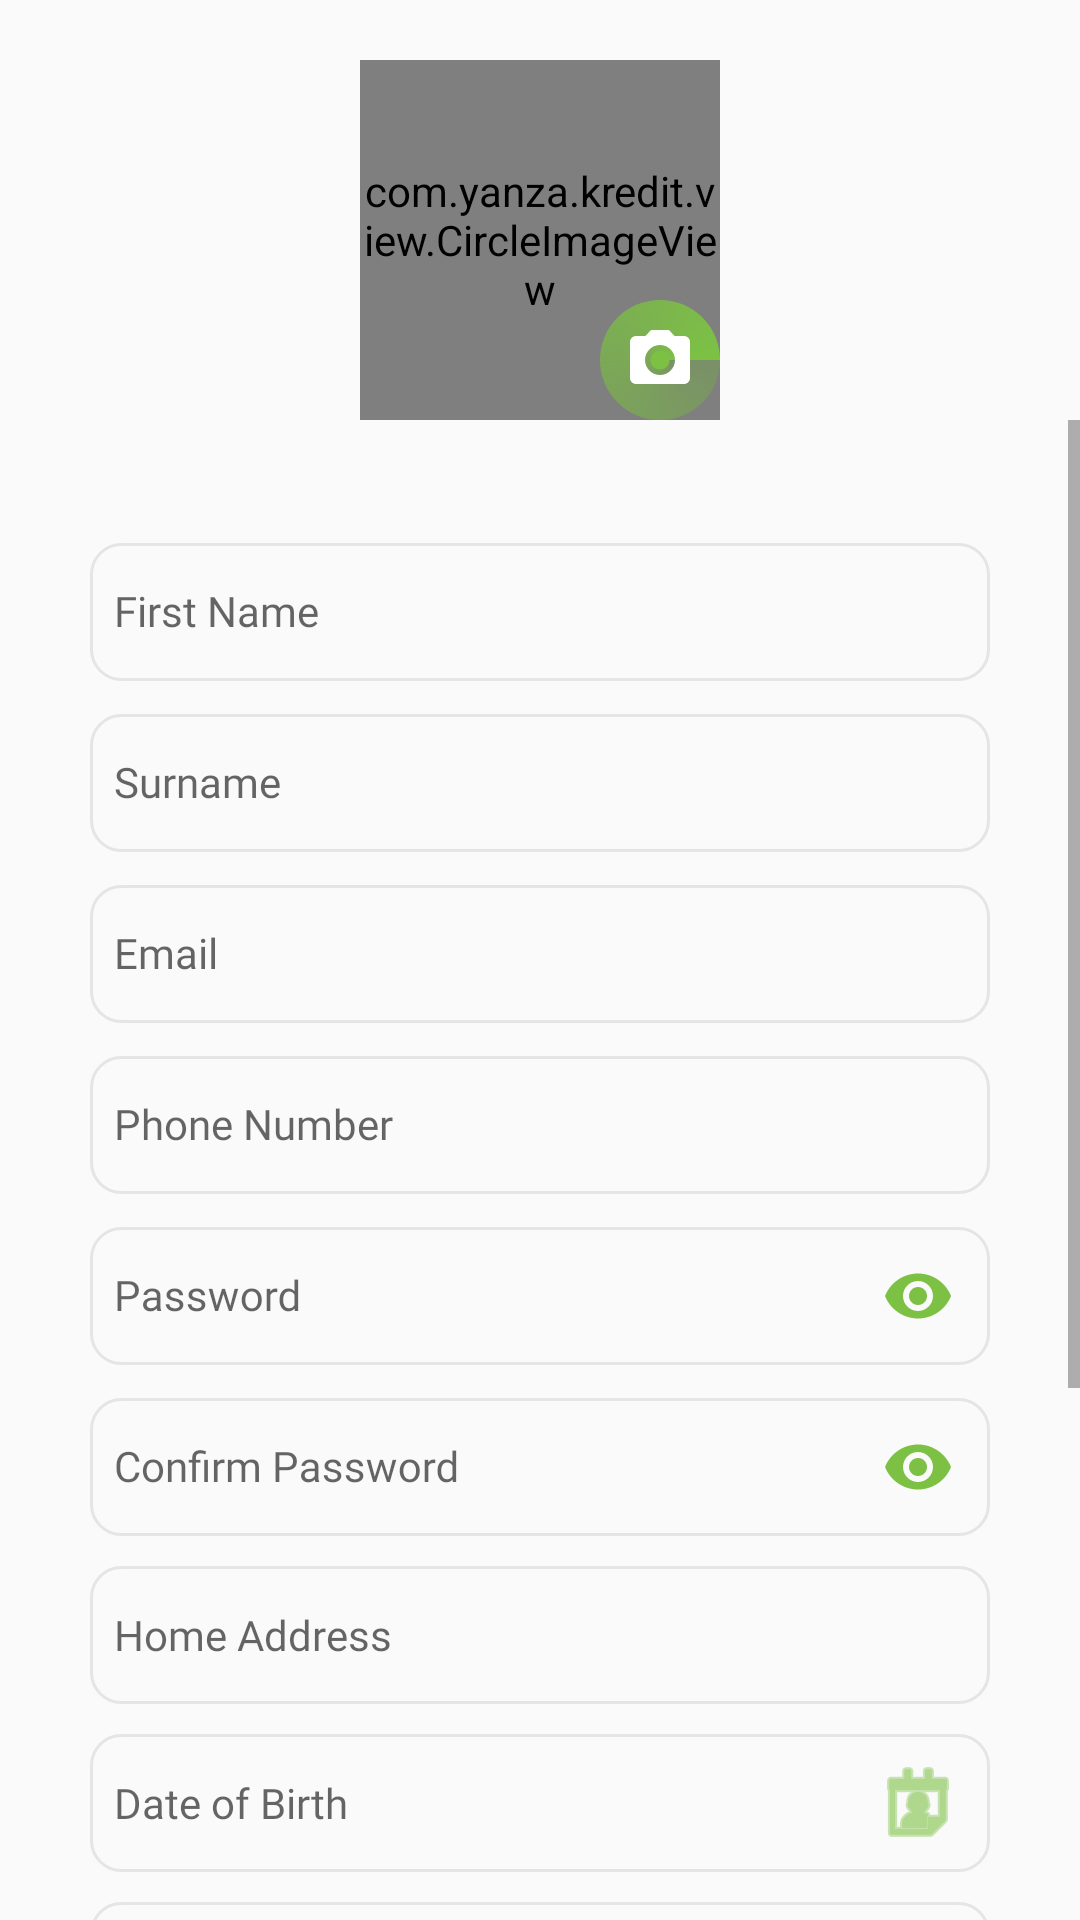

Point at icon controls on the screen. Image size 1080*1920, points as point (x, y).
camera: point (660, 360)
